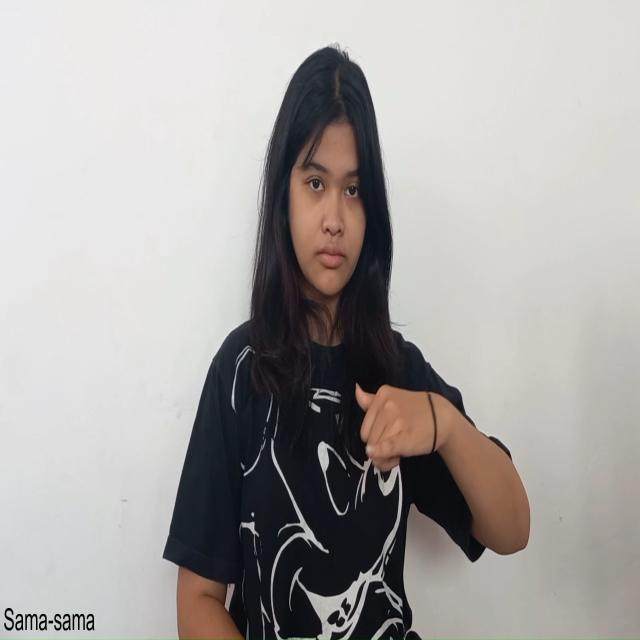Sama-sama -BISINDO-: (353, 379, 452, 477)
